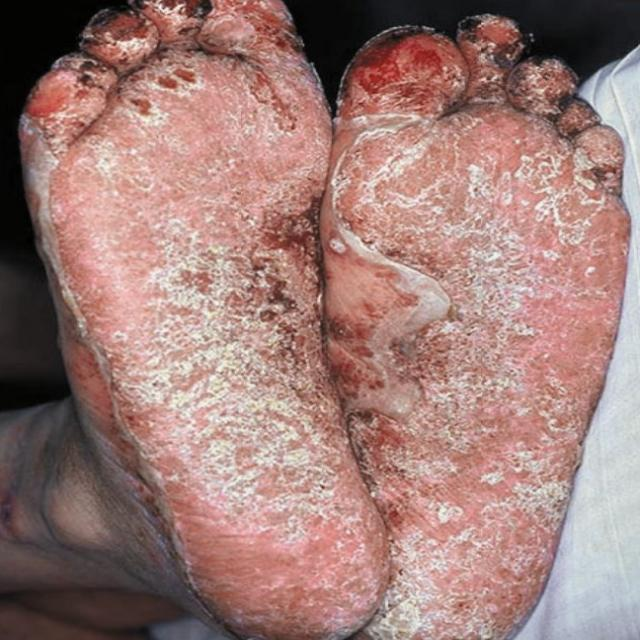Psoriasis Pustulosa: (0, 0, 389, 639), (321, 16, 630, 639)
